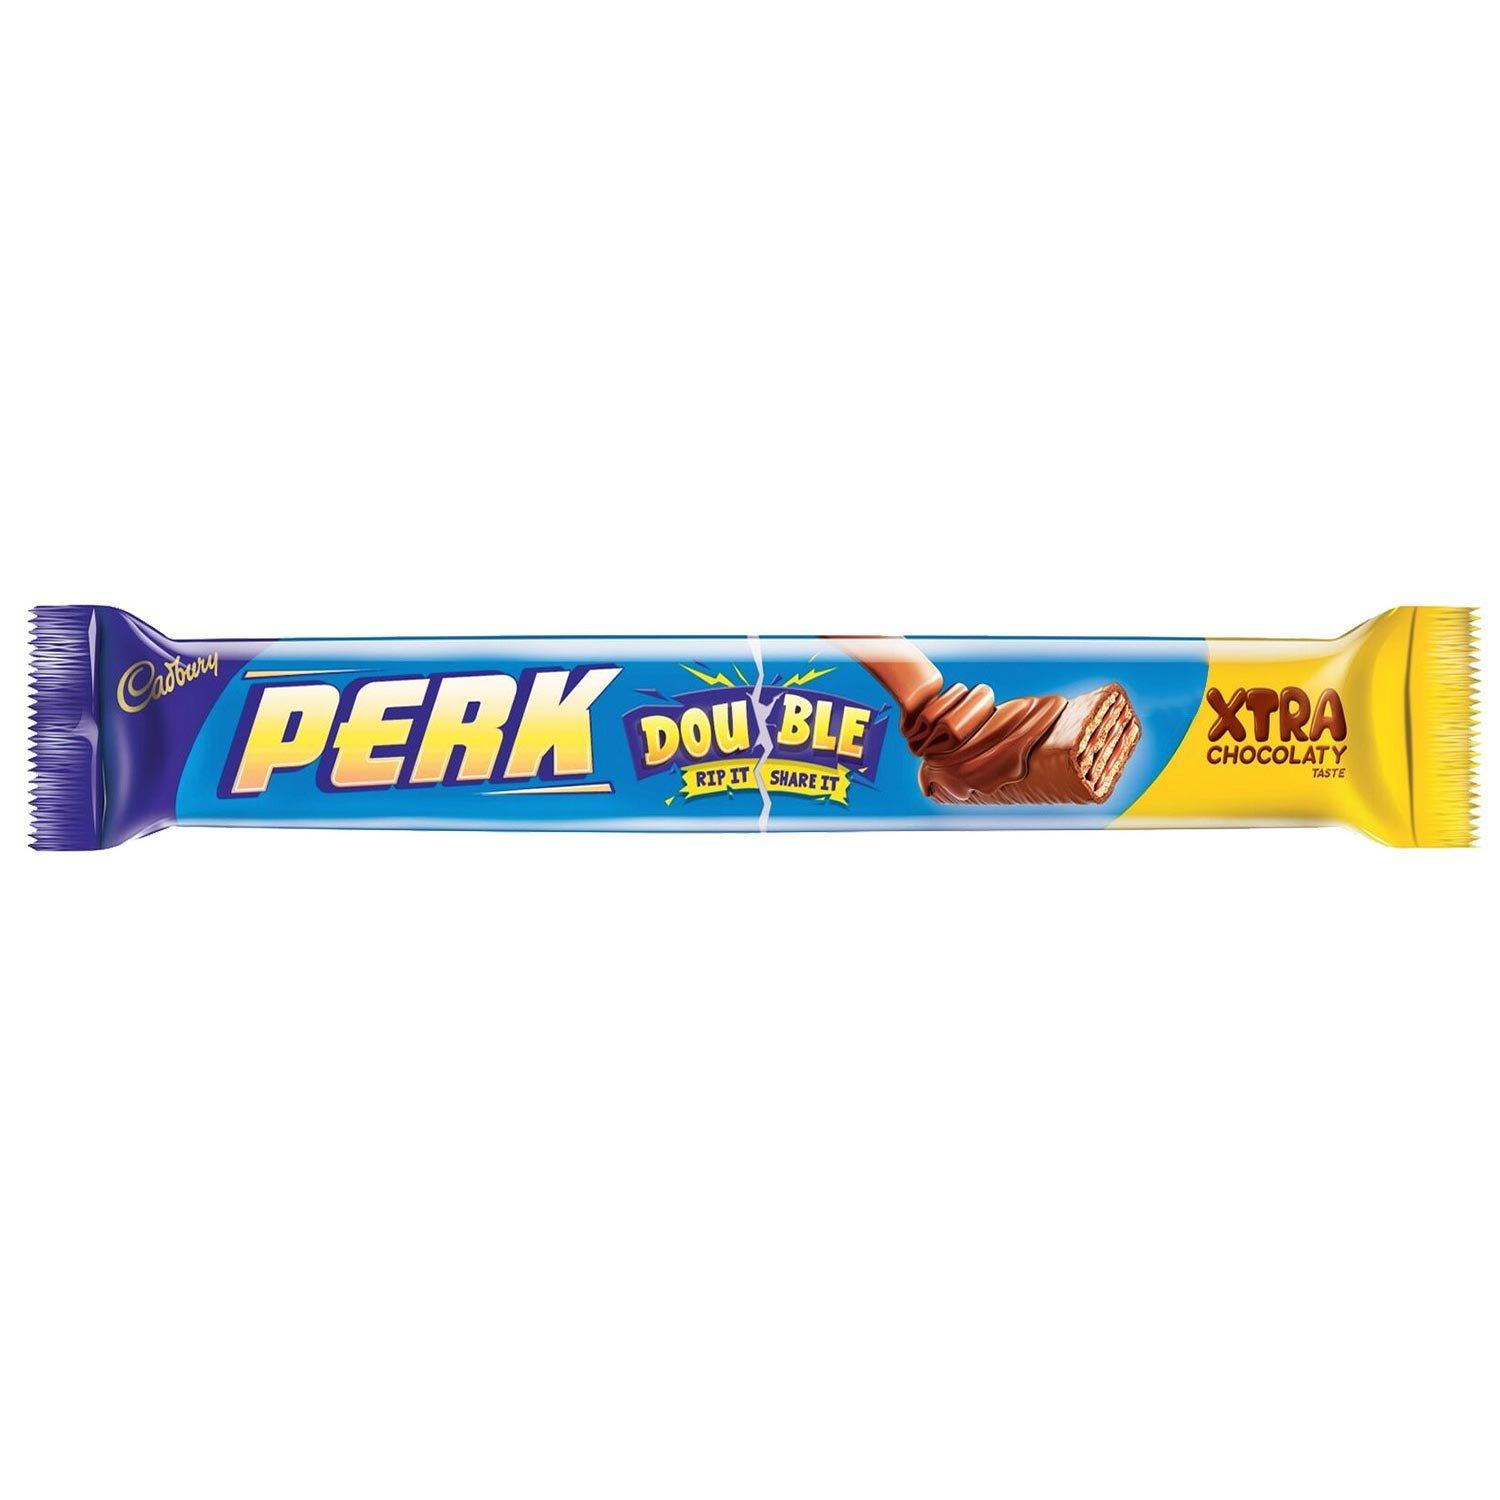Perk: (29, 602, 1475, 857)
